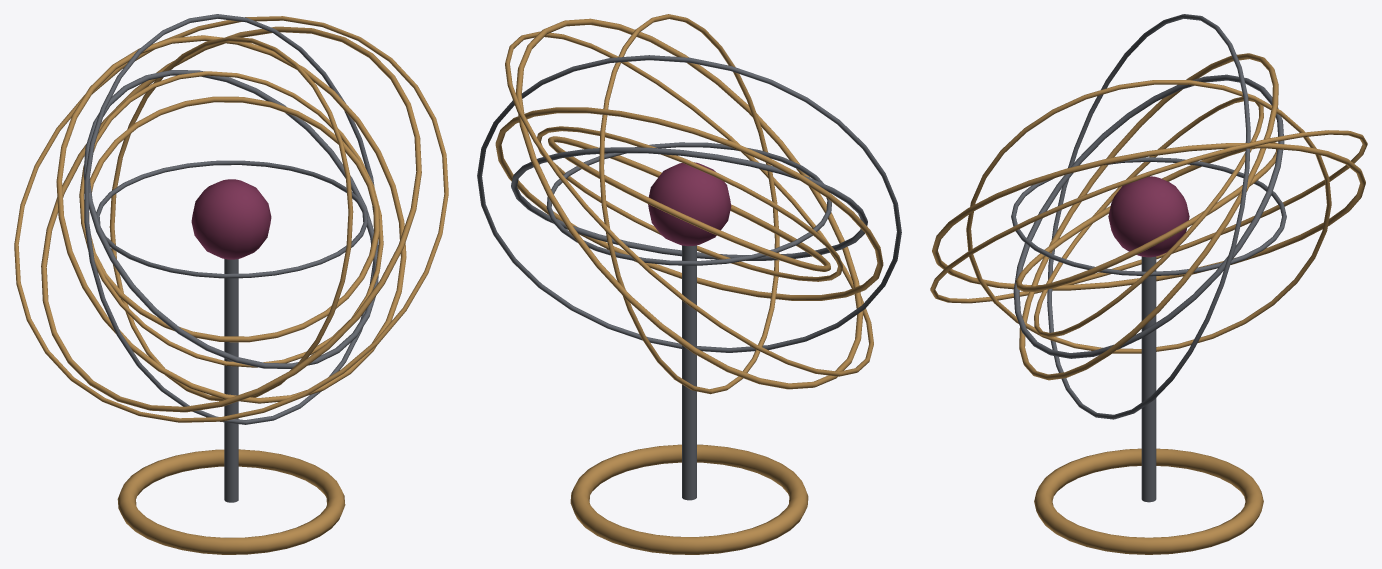
File: armillary-lite-v1.glb
3 views of the same model, side by side, from view 1: azimuth 30°, elevation 25°; view 2: azimuth 150°, elevation 25°; view 3: azimuth 270°, elevation 25° (orthographic). The views are drawn at different scales.
Parts seen in each view (by area): view 1: support_foot, scale_ring_building_pivot, scale_ring_battle_pivot, scale_ring_region_pivot, axis_cap, scale_ring_settlement_pivot, scale_ring_planet_pivot, scale_ring_plane_pivot, scale_ring_continent_pivot, scale_ring_system_pivot, support_column, scale_ring_cosmology_pivot; view 2: support_foot, scale_ring_building_pivot, scale_ring_settlement_pivot, scale_ring_region_pivot, scale_ring_battle_pivot, axis_cap, scale_ring_continent_pivot, scale_ring_planet_pivot, support_column, scale_ring_plane_pivot, scale_ring_system_pivot, scale_ring_cosmology_pivot; view 3: support_foot, scale_ring_building_pivot, scale_ring_continent_pivot, scale_ring_region_pivot, scale_ring_planet_pivot, axis_cap, scale_ring_settlement_pivot, scale_ring_battle_pivot, support_column, scale_ring_system_pivot, scale_ring_plane_pivot, scale_ring_cosmology_pivot.
Part boxes in pixels (bbox=[...]): support_foot: bbox=[117, 449, 345, 554]; scale_ring_building_pivot: bbox=[41, 26, 421, 412]; scale_ring_battle_pivot: bbox=[14, 16, 448, 422]; scale_ring_region_pivot: bbox=[56, 35, 406, 403]; axis_cap: bbox=[191, 179, 271, 259]; scale_ring_settlement_pivot: bbox=[84, 14, 378, 424]; scale_ring_planet_pivot: bbox=[83, 70, 378, 368]; scale_ring_plane_pivot: bbox=[89, 96, 379, 342]; scale_ring_continent_pivot: bbox=[109, 36, 353, 401]; scale_ring_system_pivot: bbox=[79, 71, 383, 367]; support_column: bbox=[224, 259, 238, 502]; scale_ring_cosmology_pivot: bbox=[96, 160, 367, 278]; support_foot: bbox=[570, 444, 808, 554]; scale_ring_building_pivot: bbox=[516, 18, 863, 389]; scale_ring_settlement_pivot: bbox=[477, 55, 901, 352]; scale_ring_region_pivot: bbox=[495, 107, 883, 300]; scale_ring_battle_pivot: bbox=[505, 31, 873, 376]; axis_cap: bbox=[648, 162, 731, 246]; scale_ring_continent_pivot: bbox=[599, 14, 779, 394]; scale_ring_planet_pivot: bbox=[511, 147, 867, 260]; support_column: bbox=[682, 245, 696, 500]; scale_ring_plane_pivot: bbox=[548, 136, 830, 271]; scale_ring_system_pivot: bbox=[537, 126, 842, 281]; scale_ring_cosmology_pivot: bbox=[546, 142, 831, 265]; support_foot: bbox=[1034, 448, 1263, 554]; scale_ring_building_pivot: bbox=[932, 143, 1365, 290]; scale_ring_continent_pivot: bbox=[966, 80, 1331, 353]; scale_ring_region_pivot: bbox=[1019, 53, 1278, 380]; scale_ring_planet_pivot: bbox=[1013, 74, 1284, 358]; axis_cap: bbox=[1108, 176, 1189, 257]; scale_ring_settlement_pivot: bbox=[1047, 14, 1250, 419]; scale_ring_battle_pivot: bbox=[930, 130, 1367, 303]; support_column: bbox=[1141, 256, 1156, 502]; scale_ring_system_pivot: bbox=[1034, 96, 1263, 337]; scale_ring_plane_pivot: bbox=[1016, 142, 1277, 292]; scale_ring_cosmology_pivot: bbox=[1011, 157, 1286, 276].
Bounding box in the file's own units: 1.46 × 1.9 × 1.61.
